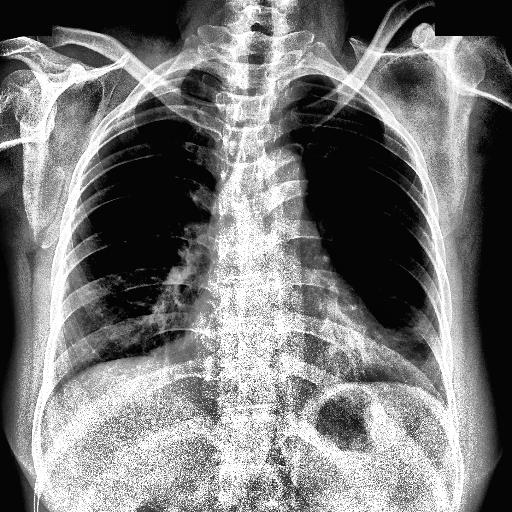0- Aortic enlargement: (254, 142, 310, 232), (254, 144, 310, 208)
3- Cardiomegaly: (181, 299, 409, 414), (182, 300, 396, 395), (168, 306, 394, 380)
7- Lung Opacity: (372, 312, 444, 395)
